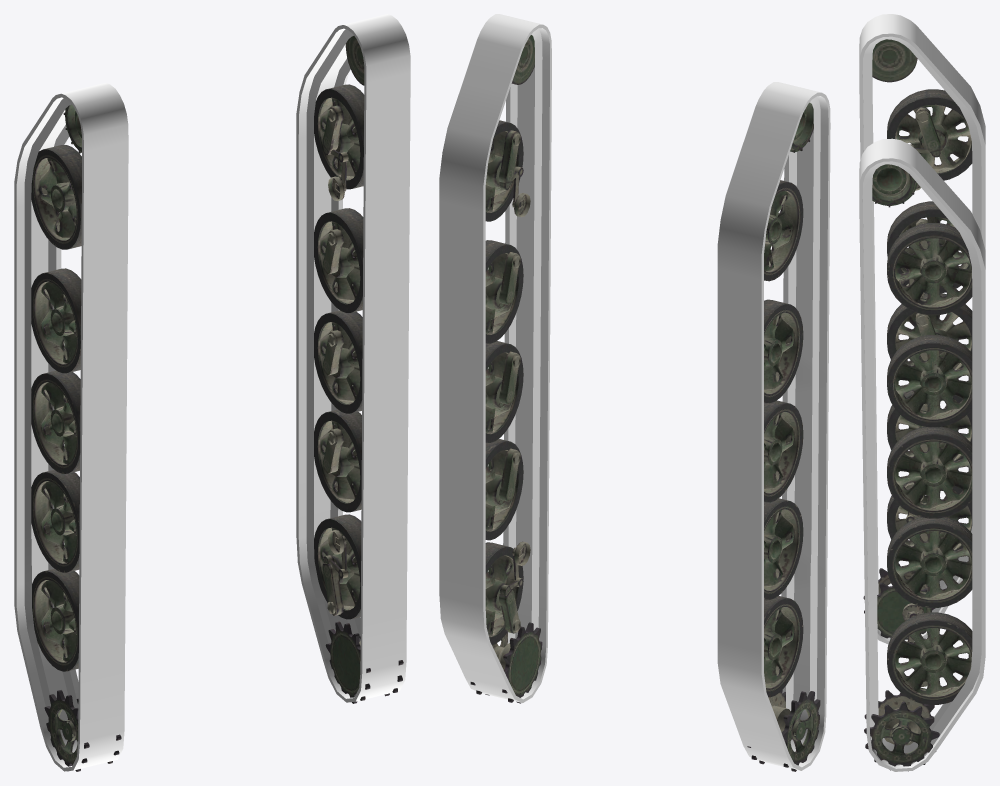
Rendered from Chassis.glb.
3 renders of one model, left to right at view 1: azimuth 30°, elevation 25°; view 2: azimuth 150°, elevation 25°; view 3: azimuth 270°, elevation 25°, orthographic. The views are drawn at different scales.
Visible parts, largest first — view 1: set_1_group_0, set_0_group_0, set_3_group_0, set_2_group_0; view 2: set_1_group_0, set_0_group_0, set_3_group_0, set_2_group_0; view 3: set_3_group_0, set_0_group_0, set_2_group_0, set_1_group_0.
Part boxes in pixels (left/top/right/bottom): set_1_group_0: left=14, top=83, right=128, bottom=771; set_0_group_0: left=296, top=14, right=410, bottom=702; set_3_group_0: left=314, top=36, right=403, bottom=703; set_2_group_0: left=31, top=104, right=121, bottom=771; set_1_group_0: left=717, top=82, right=830, bottom=770; set_0_group_0: left=439, top=14, right=551, bottom=702; set_3_group_0: left=470, top=35, right=542, bottom=703; set_2_group_0: left=747, top=102, right=820, bottom=771; set_3_group_0: left=864, top=164, right=972, bottom=771; set_0_group_0: left=859, top=138, right=985, bottom=771; set_2_group_0: left=863, top=39, right=972, bottom=639; set_1_group_0: left=859, top=14, right=985, bottom=644.
Bounding box in the file's own units: 2.78 × 5.52 × 1.03.
Materials: 4 (2 with a texture image).
